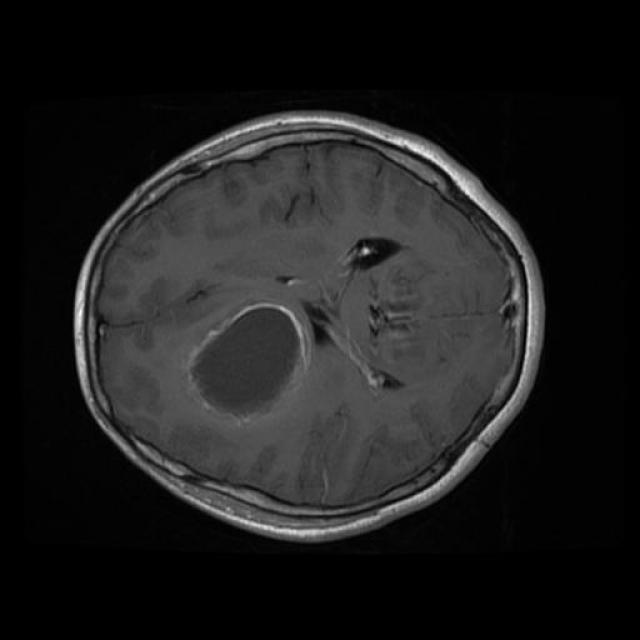Glioma: (190, 302, 311, 417)
